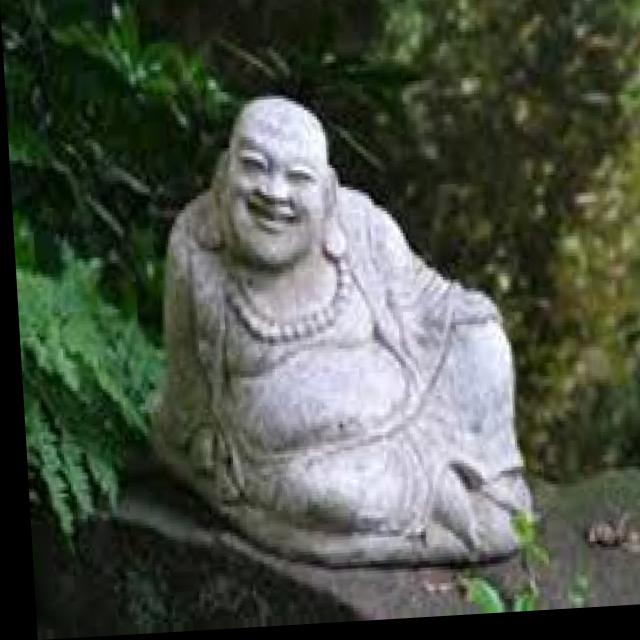Smiling Buddha: (176, 90, 433, 526)
